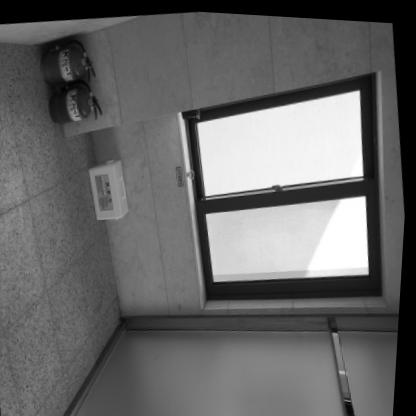DDL: (86, 156, 134, 222)
